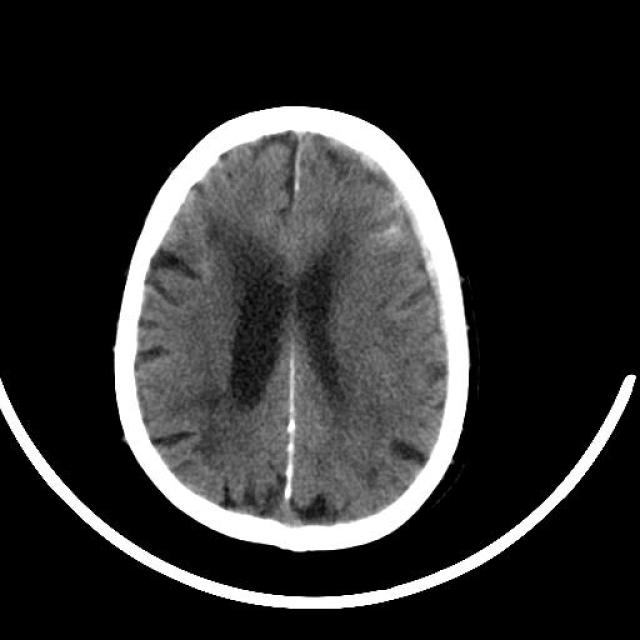Subarachnoid: (358, 189, 408, 271)
Subdural: (334, 142, 470, 336)
